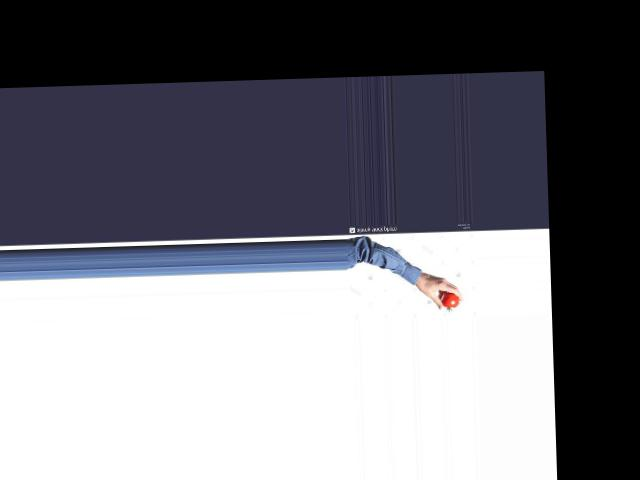tomato: (442, 292, 459, 307)
